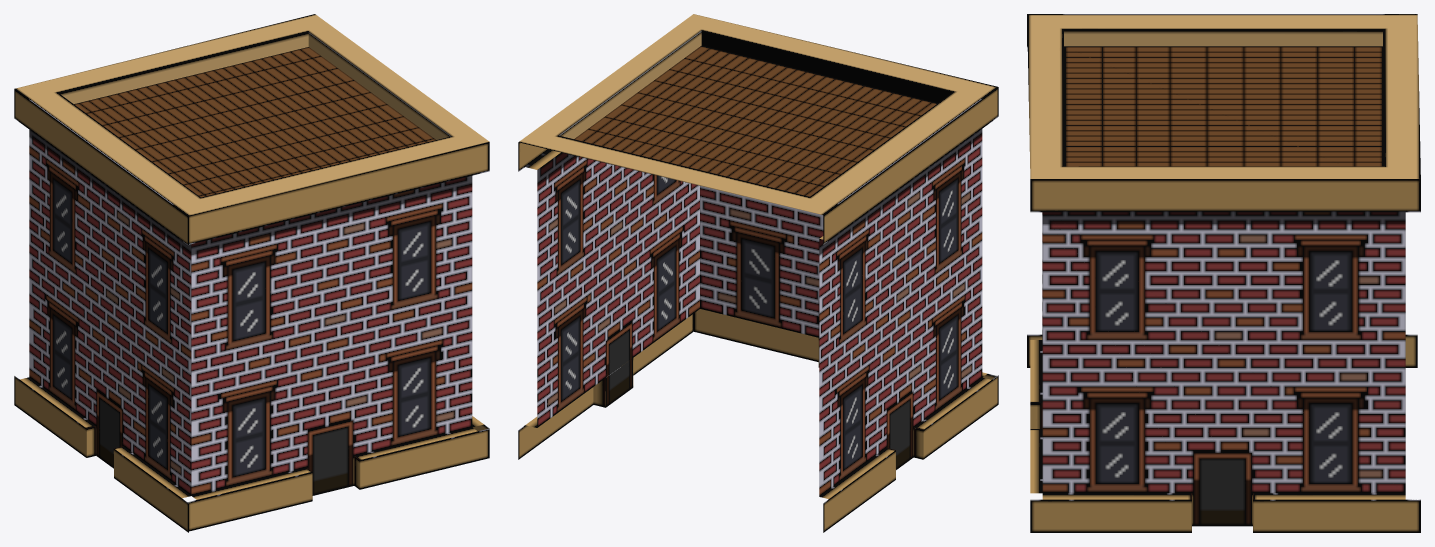
File: SmallBuilding.fbx
3 views of the same model, side by side, from view 1: azimuth 30°, elevation 25°; view 2: azimuth 150°, elevation 25°; view 3: azimuth 270°, elevation 25° (orthographic). The views are drawn at different scales.
Visible parts, largest first — view 1: Cube; view 2: Cube; view 3: Cube.
Boxes of the visible parts, x1,y1,x2,y2 form: Cube: (14,14,489,532); Cube: (518,14,998,532); Cube: (1027,14,1420,532).
Bounding box in the file's own units: 200 × 200 × 202.
